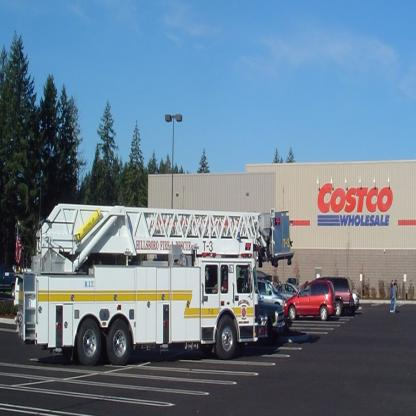Car: (258, 270, 358, 333)
